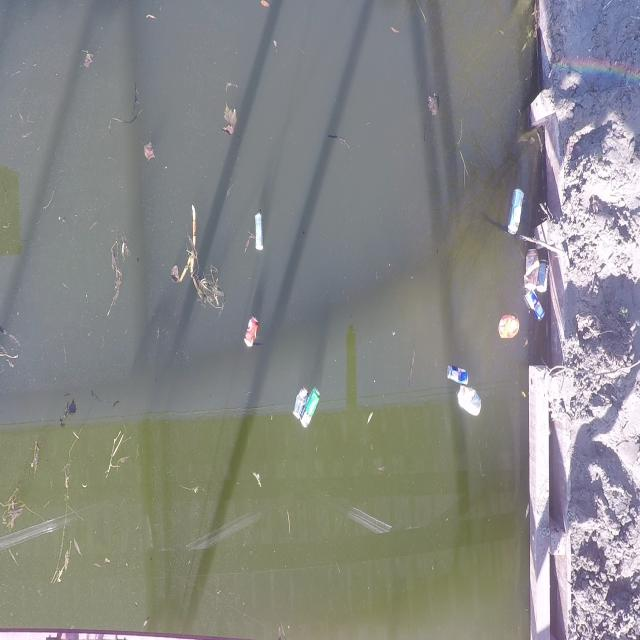Non plastique: (298, 383, 323, 432), (454, 388, 486, 418), (522, 288, 547, 326), (506, 188, 525, 235), (291, 383, 310, 421), (523, 247, 539, 289), (497, 313, 520, 342), (537, 254, 551, 295), (244, 316, 259, 354), (252, 213, 264, 255), (444, 366, 471, 384)
